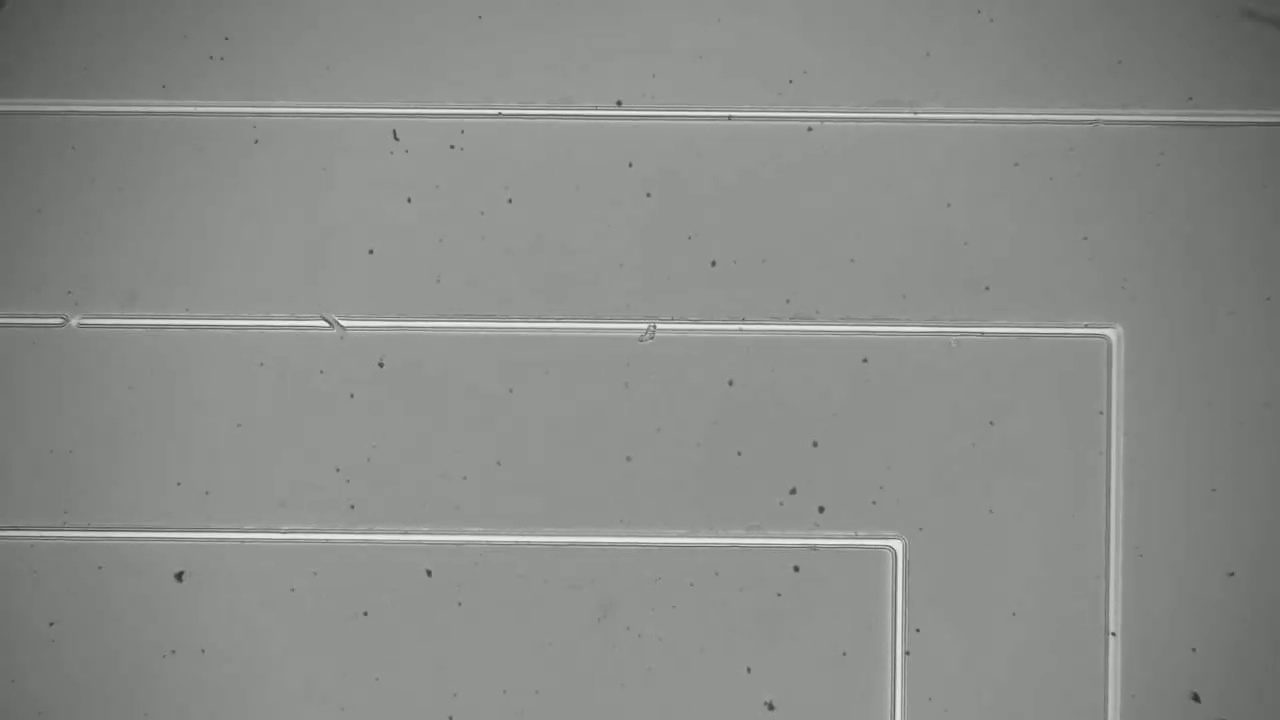open: (43, 301, 94, 339), (309, 302, 355, 343)
stains_enbedded: (628, 307, 665, 354)
